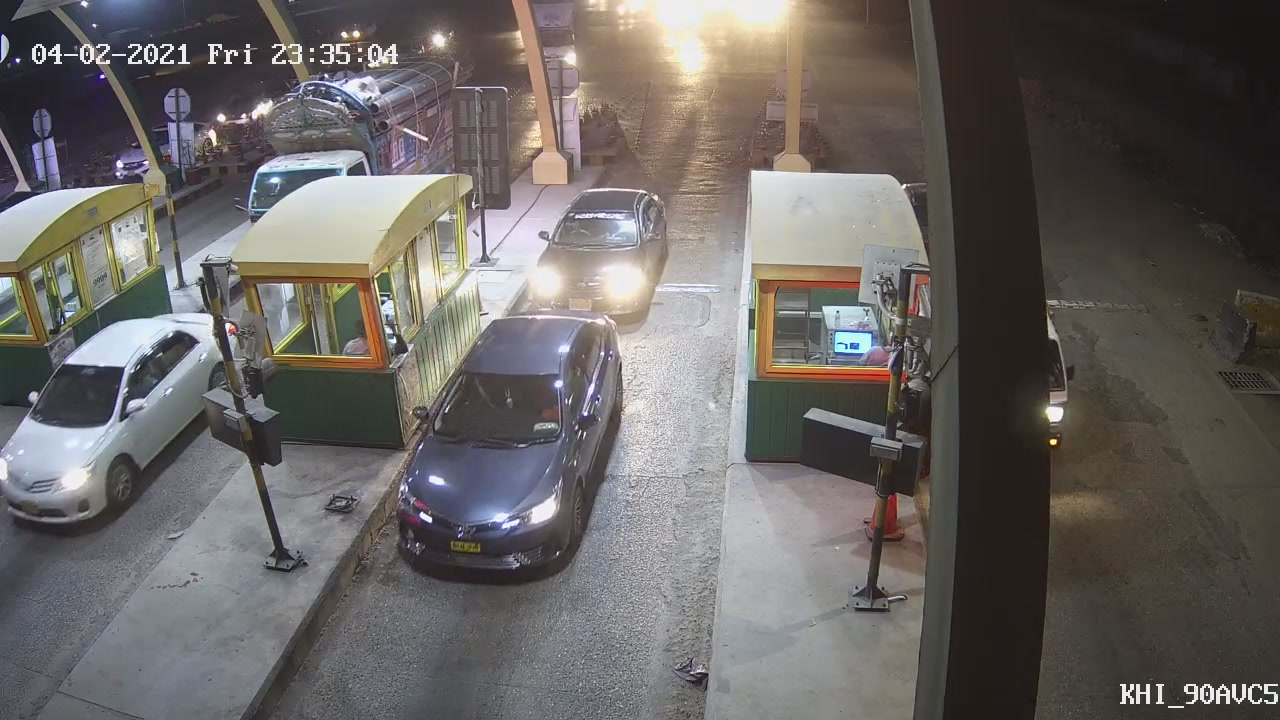F1: (394, 307, 624, 575)
